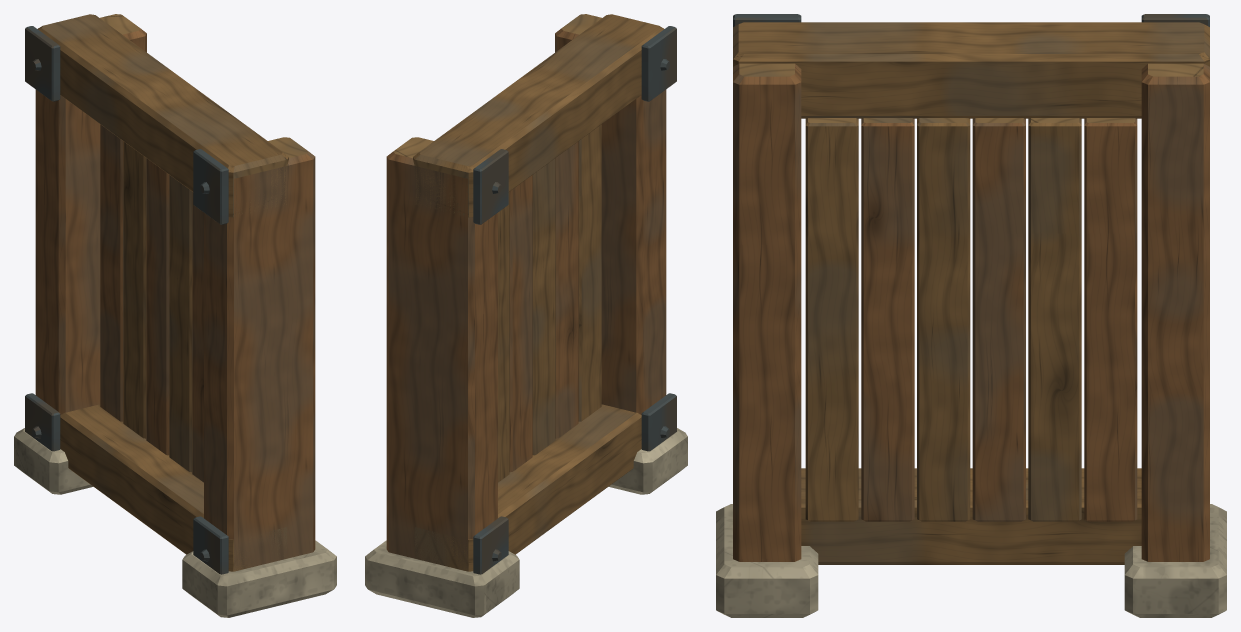
The model's file is b09_coin_stele.fbx.
3 renders of one model, left to right at view 1: azimuth 30°, elevation 25°; view 2: azimuth 150°, elevation 25°; view 3: azimuth 270°, elevation 25°, orthographic. The views are drawn at different scales.
Parts seen in each view (by area): view 1: b09_coin_stele; view 2: b09_coin_stele; view 3: b09_coin_stele.
Part boxes in pixels (box(x1,y1,x2,y2)): b09_coin_stele: box(14, 14, 336, 617); b09_coin_stele: box(365, 14, 687, 617); b09_coin_stele: box(716, 14, 1226, 617).
Size of the model in its own units: 5400 by 16500 by 19300.
